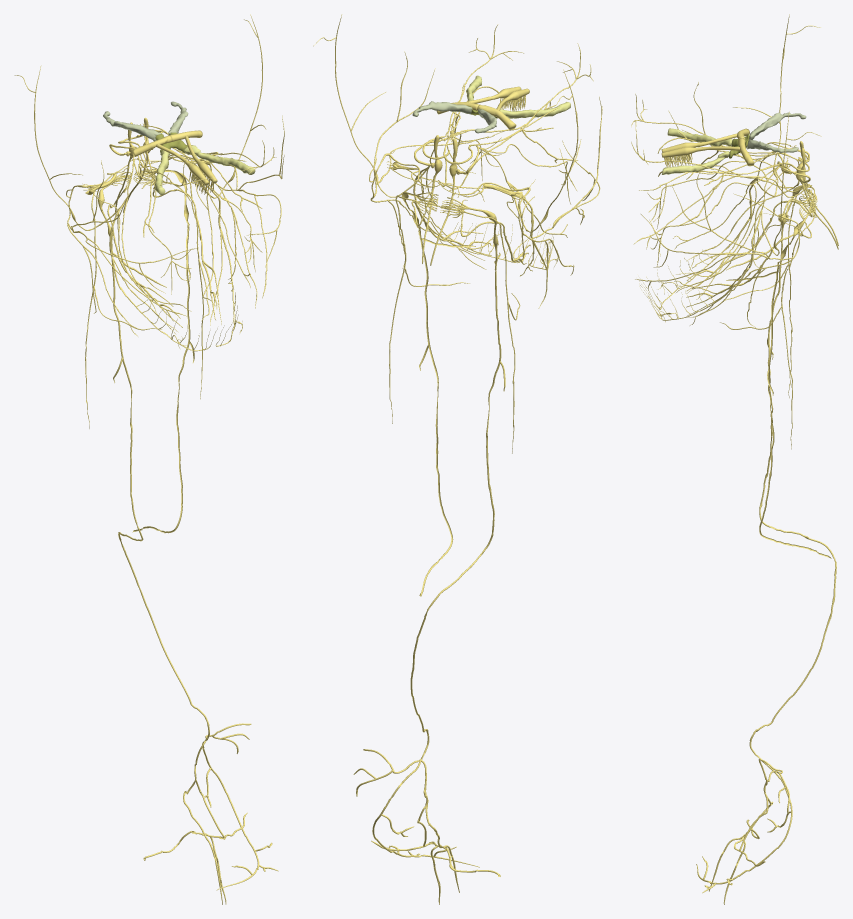
Rendered from cranial-nerves.lod0.glb.
3 renders of one model, left to right at view 1: azimuth 30°, elevation 25°; view 2: azimuth 150°, elevation 25°; view 3: azimuth 270°, elevation 25°, orthographic. The views are drawn at different scales.
Visible parts, largest first — view 1: vagus-nerve-x-r, facial-nerve-vii-r, vagus-nerve-x-l, facial-nerve-vii-l, olfactory-nerve-i-r, olfactory-nerve-i-l, hypoglossal-nerve-xii-l, glossopharyngeal-nerve-ix-r, optic-nerve-l; view 2: vagus-nerve-x-r, vagus-nerve-x-l, facial-nerve-vii-l, facial-nerve-vii-r, glossopharyngeal-nerve-ix-l, olfactory-nerve-i-r, glossopharyngeal-nerve-ix-r; view 3: vagus-nerve-x-r, facial-nerve-vii-l, vagus-nerve-x-l, facial-nerve-vii-r, olfactory-nerve-i-l, glossopharyngeal-nerve-ix-l, hypoglossal-nerve-xii-r, olfactory-nerve-i-r, hypoglossal-nerve-xii-l, optic-nerve-l, glossopharyngeal-nerve-ix-r, meningeal-branch-of-maxillary-nerve-l (+1 smaller).
Part boxes in pixels (x1=…): vagus-nerve-x-r: x1=98, y1=172, x2=278, y2=904; facial-nerve-vii-r: x1=66, y1=159, x2=198, y2=336; vagus-nerve-x-l: x1=132, y1=166, x2=194, y2=533; facial-nerve-vii-l: x1=135, y1=115, x2=284, y2=308; olfactory-nerve-i-r: x1=132, y1=135, x2=209, y2=194; olfactory-nerve-i-l: x1=169, y1=130, x2=217, y2=192; hypoglossal-nerve-xii-l: x1=133, y1=171, x2=218, y2=319; glossopharyngeal-nerve-ix-r: x1=85, y1=172, x2=162, y2=428; optic-nerve-l: x1=184, y1=145, x2=255, y2=174; vagus-nerve-x-r: x1=353, y1=197, x2=505, y2=904; vagus-nerve-x-l: x1=401, y1=191, x2=475, y2=596; facial-nerve-vii-l: x1=369, y1=51, x2=508, y2=268; facial-nerve-vii-r: x1=441, y1=96, x2=602, y2=308; glossopharyngeal-nerve-ix-l: x1=389, y1=191, x2=469, y2=423; olfactory-nerve-i-r: x1=477, y1=88, x2=529, y2=130; glossopharyngeal-nerve-ix-r: x1=441, y1=192, x2=520, y2=453; vagus-nerve-x-r: x1=696, y1=185, x2=836, y2=904; facial-nerve-vii-l: x1=635, y1=168, x2=812, y2=327; vagus-nerve-x-l: x1=726, y1=198, x2=831, y2=558; facial-nerve-vii-r: x1=633, y1=82, x2=811, y2=270; olfactory-nerve-i-l: x1=661, y1=138, x2=754, y2=167; glossopharyngeal-nerve-ix-l: x1=720, y1=197, x2=817, y2=449; hypoglossal-nerve-xii-r: x1=686, y1=196, x2=817, y2=291; olfactory-nerve-i-r: x1=661, y1=128, x2=749, y2=163; hypoglossal-nerve-xii-l: x1=686, y1=200, x2=817, y2=307; optic-nerve-l: x1=661, y1=151, x2=729, y2=174; glossopharyngeal-nerve-ix-r: x1=721, y1=186, x2=817, y2=398; meningeal-branch-of-maxillary-nerve-l: x1=733, y1=112, x2=821, y2=255.
Bounding box in the file's own units: 0.1531 × 0.5423 × 0.1245.
